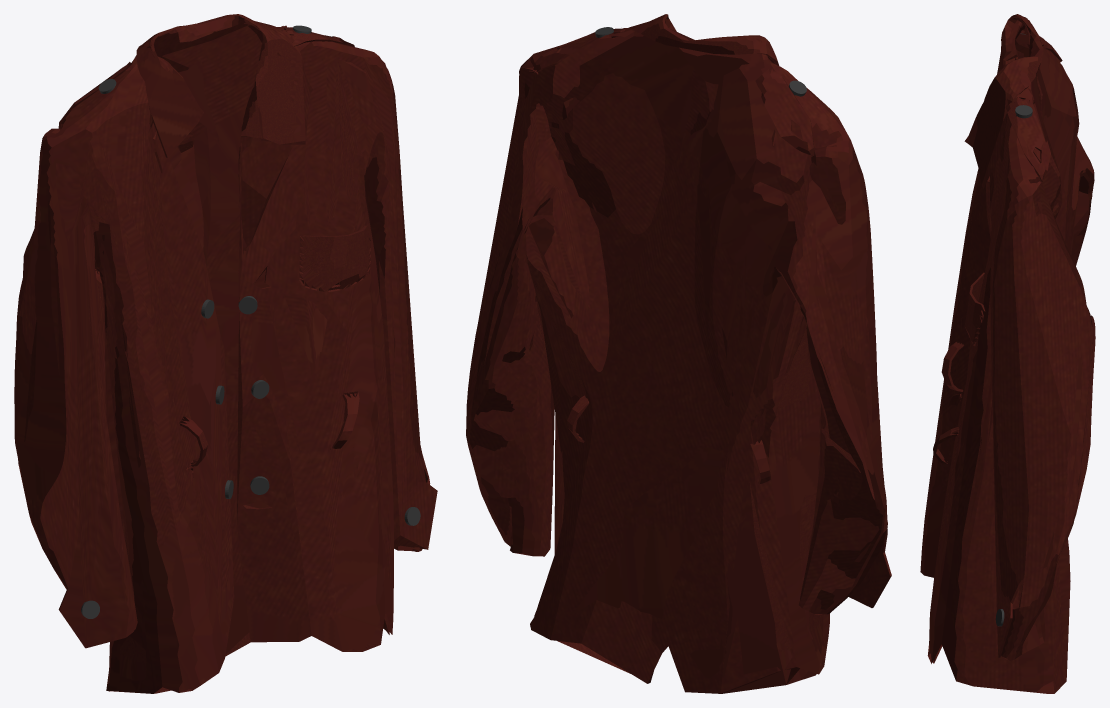
Rendered from GLB_Jacket.glb.
3 renders of one model, left to right at view 1: azimuth 30°, elevation 25°; view 2: azimuth 150°, elevation 25°; view 3: azimuth 270°, elevation 25°, orthographic. The views are drawn at different scales.
Parts seen in each view (by area): view 1: Mesh; view 2: Mesh; view 3: Mesh.
Boxes of the visible parts, x1,y1,x2,y2 form: Mesh: (14, 14, 437, 693); Mesh: (466, 14, 891, 693); Mesh: (920, 14, 1095, 693).
Bounding box in the file's own units: 118 × 183 × 47.69.
Materials: 2 (1 with a texture image).
